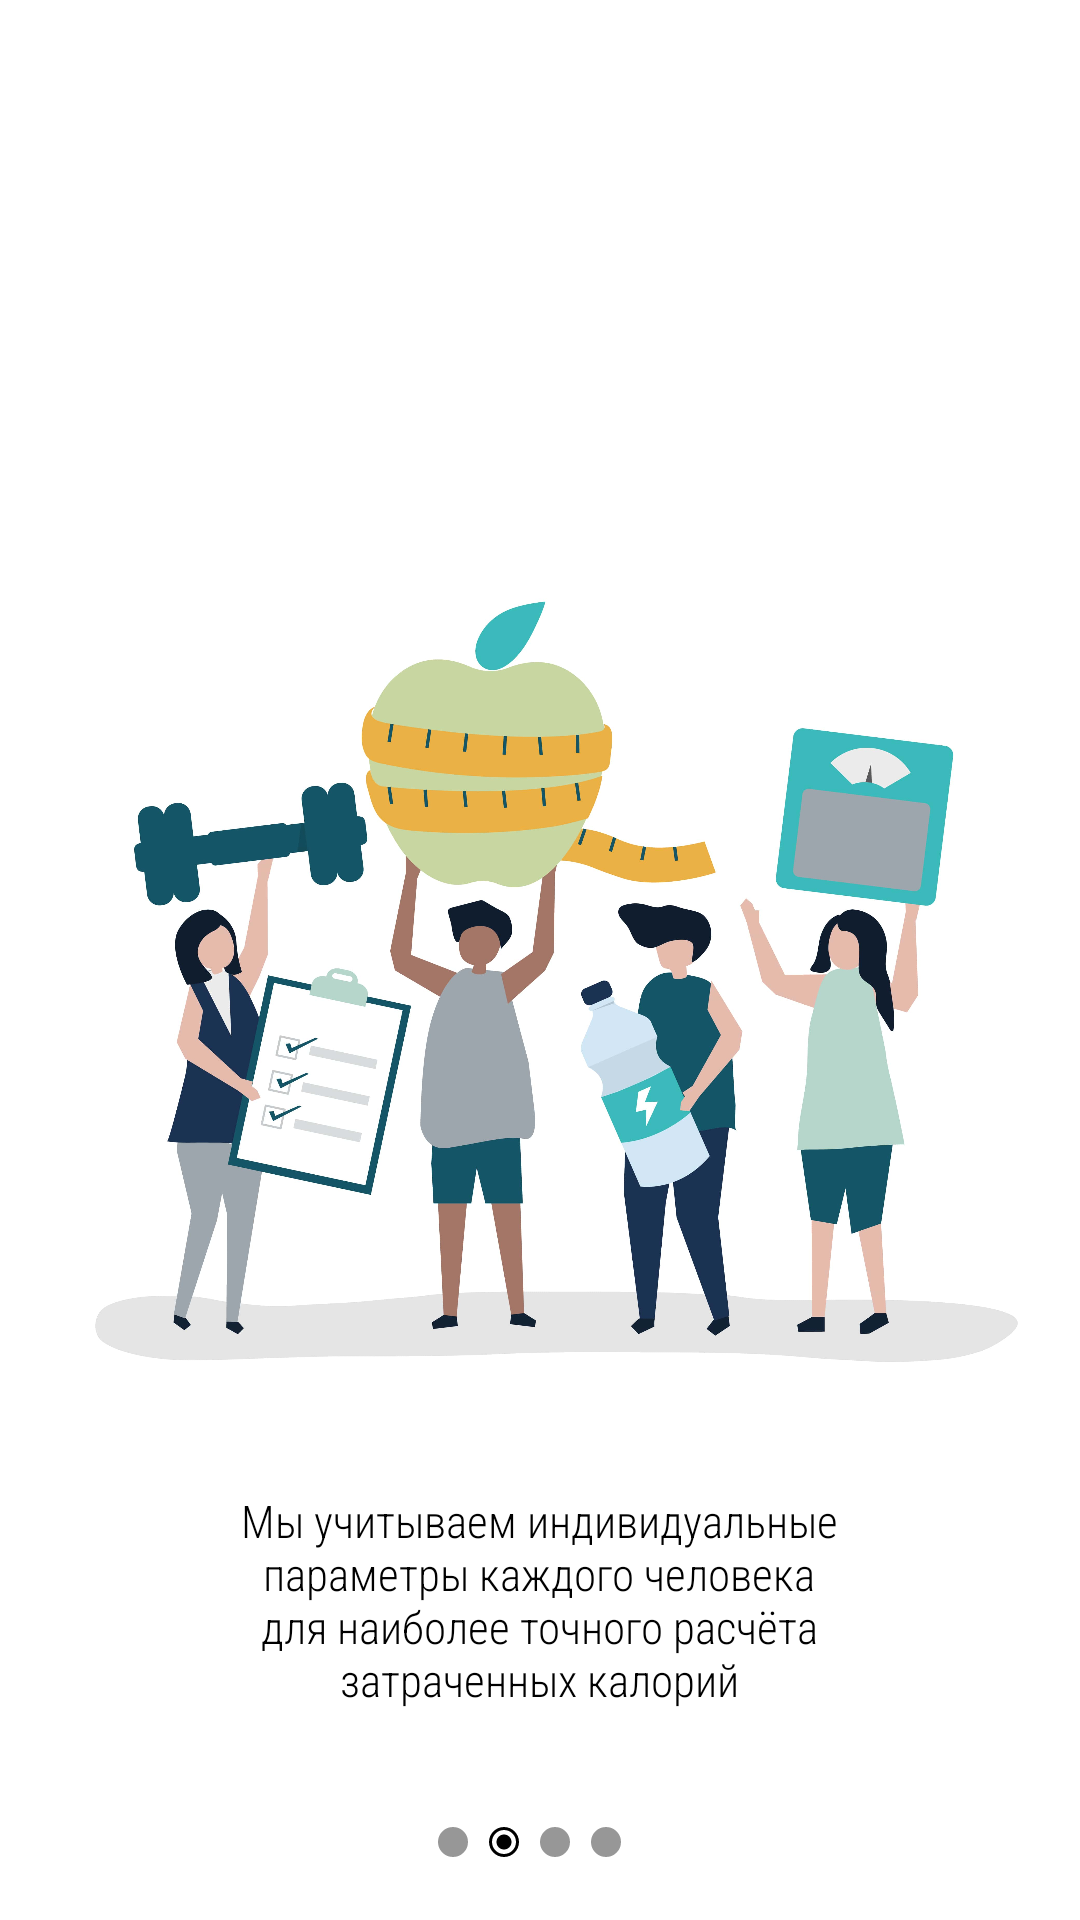

Icon bounding boxes for this 1080px×1920px phone screenshot, format (x1, y1, x2, y2):
select: (489, 1827, 519, 1857)
unselect: (438, 1827, 468, 1857), (540, 1827, 570, 1857), (591, 1827, 621, 1857)
